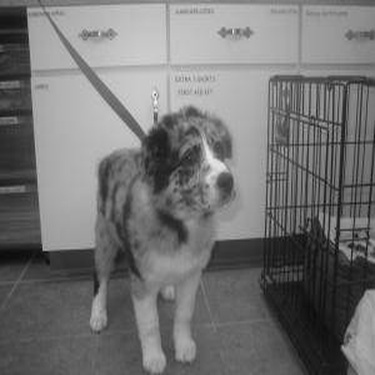dog: (74, 80, 235, 372)
